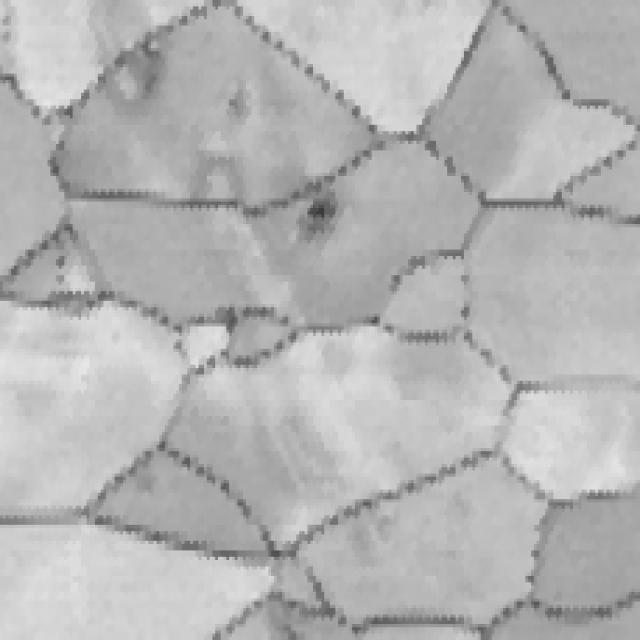good_void: (78, 0, 165, 119), (218, 86, 275, 134), (299, 185, 349, 235), (57, 252, 67, 268), (58, 272, 67, 285)
